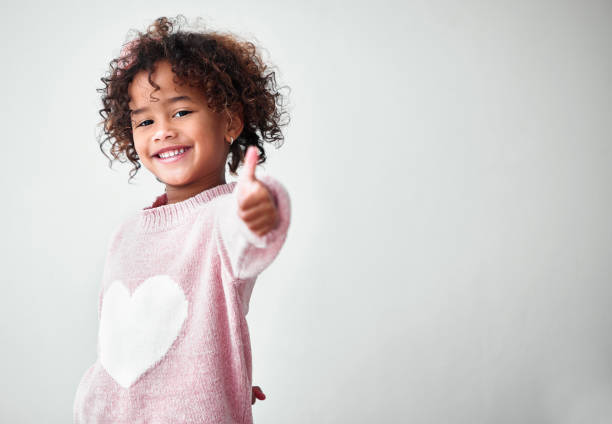ThumbsUp: (235, 147, 280, 241)
